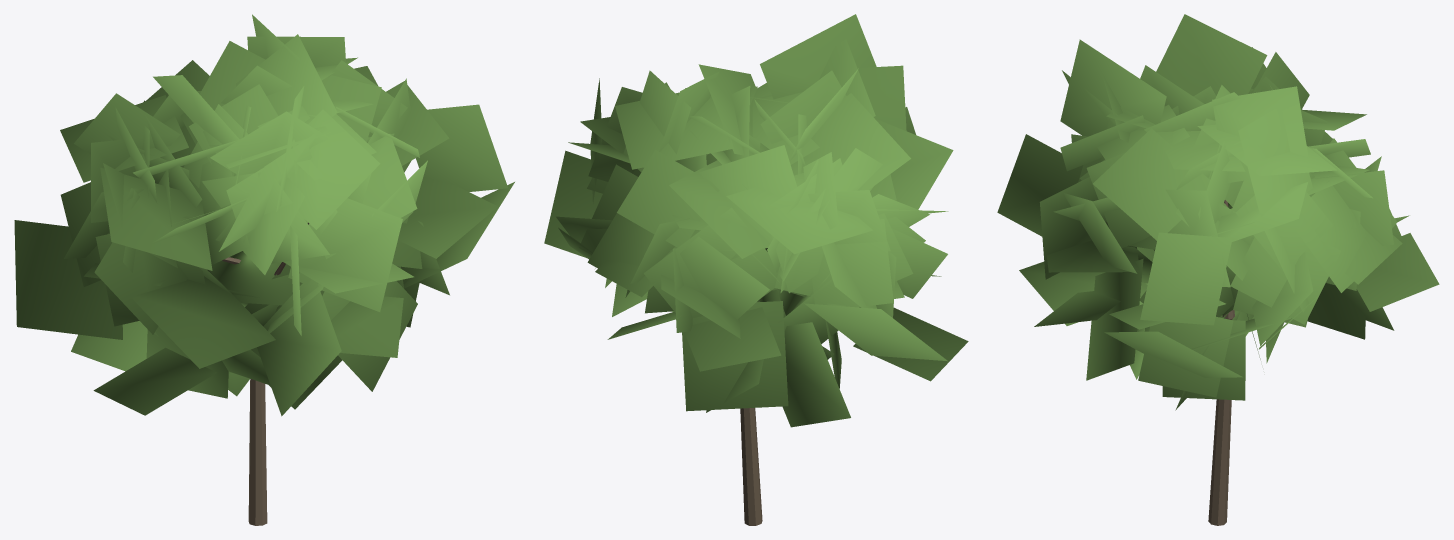
The model's file is tree_3.glb.
3 views of the same model, side by side, from view 1: azimuth 30°, elevation 25°; view 2: azimuth 150°, elevation 25°; view 3: azimuth 270°, elevation 25° (orthographic). The views are drawn at different scales.
Visible parts, largest first — view 1: Leaves_Crown, Bark_Trunk; view 2: Leaves_Crown, Bark_Trunk; view 3: Leaves_Crown, Bark_Trunk.
Part boxes in pixels (box(x1,y1,x2,y2)): Leaves_Crown: box(14, 14, 514, 416); Bark_Trunk: box(222, 222, 309, 525); Leaves_Crown: box(544, 14, 968, 427); Bark_Trunk: box(740, 408, 762, 525); Leaves_Crown: box(997, 14, 1439, 410); Bark_Trunk: box(1208, 200, 1234, 525).
Size of the model in its own units: 8.01 by 8.27 by 7.11.
